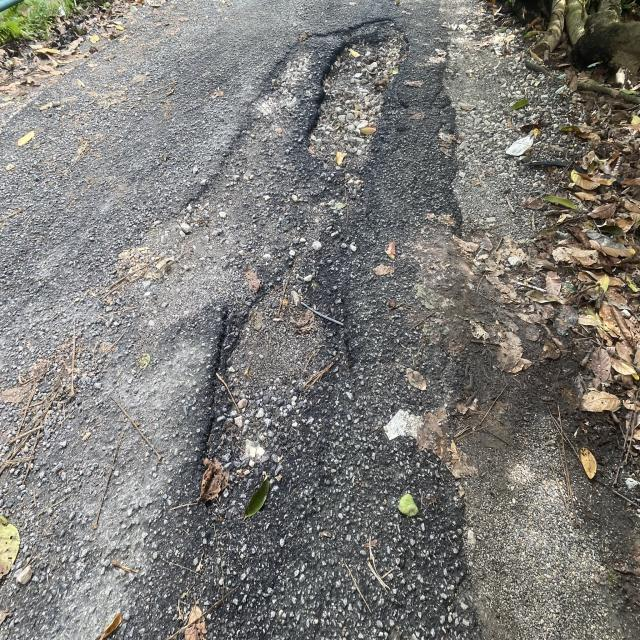pothole: (167, 236, 339, 548), (282, 13, 441, 212)
